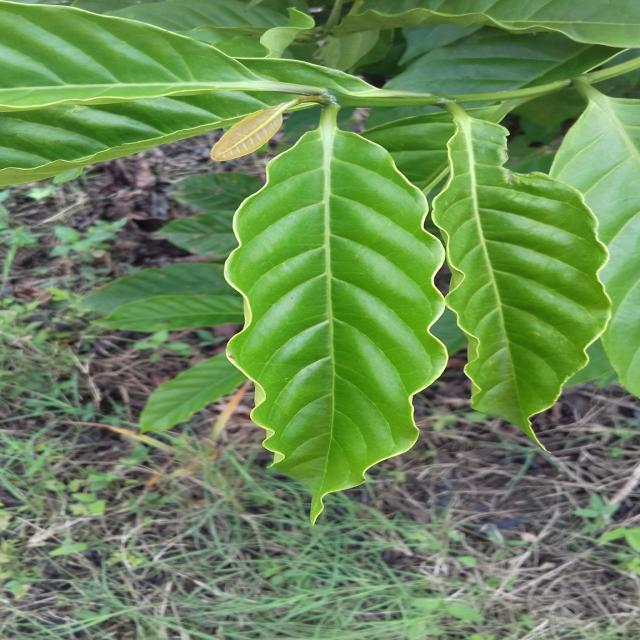Sanas: (222, 107, 453, 511)
